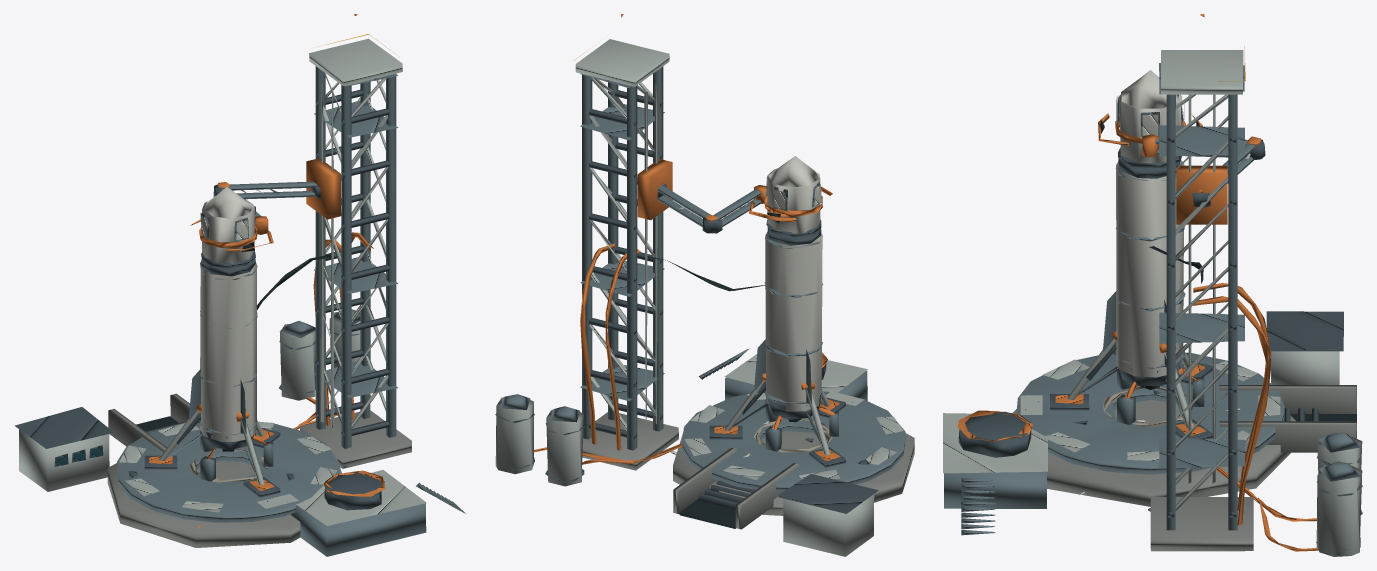
The model's file is hugin_launchpad_d1_lod2.glb.
The picture shows the model from 3 angles, left to right: view 1: azimuth 30°, elevation 25°; view 2: azimuth 150°, elevation 25°; view 3: azimuth 270°, elevation 25°; orthographic projection. The views are drawn at different scales.
Parts seen in each view (by area): view 1: HUGIN_LAUNCHPAD_LOD2_STATIC_GEOMETRY; view 2: HUGIN_LAUNCHPAD_LOD2_STATIC_GEOMETRY; view 3: HUGIN_LAUNCHPAD_LOD2_STATIC_GEOMETRY.
Boxes of the visible parts, x1,y1,x2,y2 form: HUGIN_LAUNCHPAD_LOD2_STATIC_GEOMETRY: (15, 14, 465, 556); HUGIN_LAUNCHPAD_LOD2_STATIC_GEOMETRY: (495, 14, 914, 556); HUGIN_LAUNCHPAD_LOD2_STATIC_GEOMETRY: (943, 14, 1362, 556).
Size of the model in its own units: 28.13 by 33.1 by 24.38.
